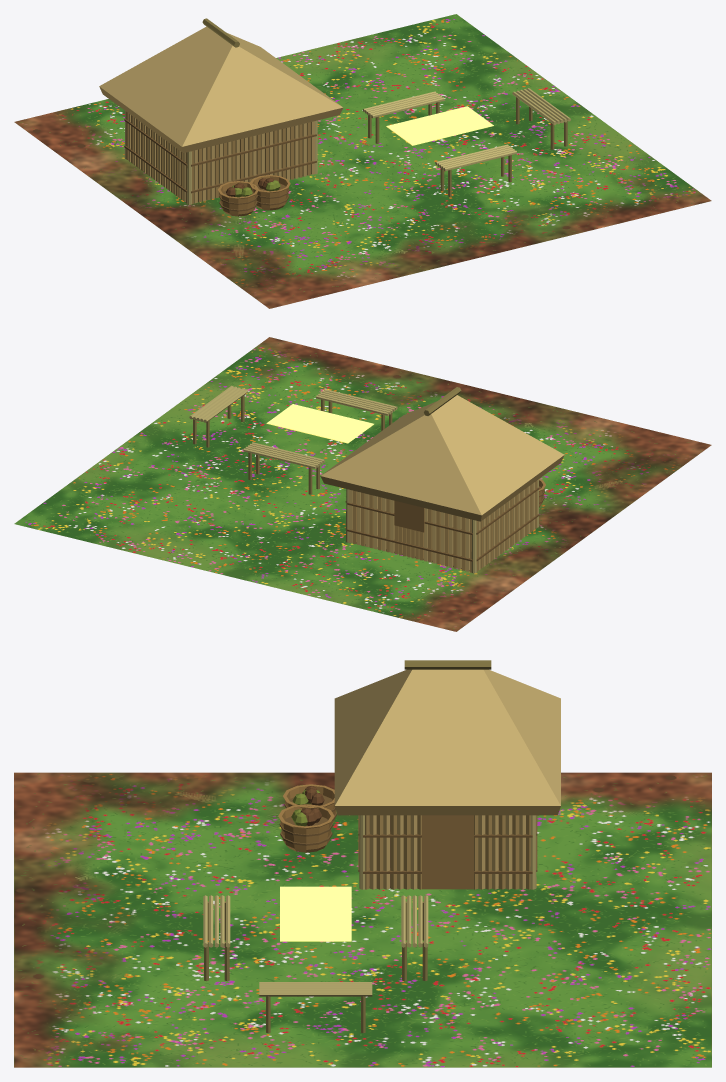
File: plantaz_palouk_chajda.glb
The picture shows the model from 3 angles, top to bottom: view 1: azimuth 30°, elevation 25°; view 2: azimuth 150°, elevation 25°; view 3: azimuth 270°, elevation 25°; orthographic projection. The views are drawn at different scales.
Visible parts, largest first — view 1: zem, chajda, lavice, kose, noc; view 2: zem, chajda, lavice, noc; view 3: zem, chajda, lavice, noc, kose.
Part boxes in pixels (<box>): zem: <box>14,14,711,308</box>; chajda: <box>99,18,343,204</box>; lavice: <box>363,88,570,196</box>; kose: <box>218,175,290,216</box>; noc: <box>386,106,493,145</box>; zem: <box>14,337,711,631</box>; chajda: <box>320,387,564,573</box>; lavice: <box>189,385,397,494</box>; noc: <box>266,404,373,443</box>; zem: <box>14,772,711,1067</box>; chajda: <box>334,660,560,889</box>; lavice: <box>203,895,428,1033</box>; noc: <box>280,886,351,941</box>; kose: <box>278,784,337,852</box>.
Bounding box in the file's own units: 14.8 × 4.33 × 14.8.
Materials: 3 (2 with a texture image).
